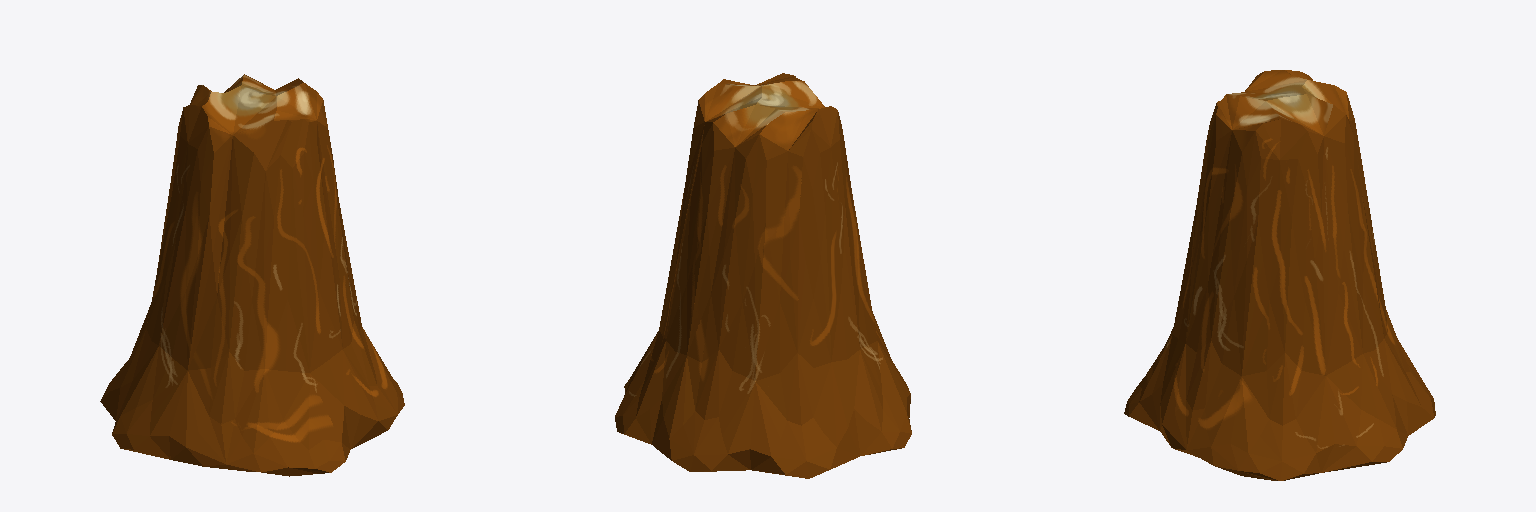
The picture shows the model from 3 angles: view 1: azimuth 30°, elevation 25°; view 2: azimuth 150°, elevation 25°; view 3: azimuth 270°, elevation 25°; orthographic projection.
Visible parts, largest first — view 1: bush_Cylinder.003; view 2: bush_Cylinder.003; view 3: bush_Cylinder.003.
Boxes of the visible parts, x1=… form: bush_Cylinder.003: x1=100, y1=74, x2=404, y2=476; bush_Cylinder.003: x1=615, y1=73, x2=911, y2=478; bush_Cylinder.003: x1=1124, y1=70, x2=1435, y2=480.
Bounding box in the file's own units: 0.2965 × 0.3371 × 0.2948.
Materials: 1 (1 with a texture image).